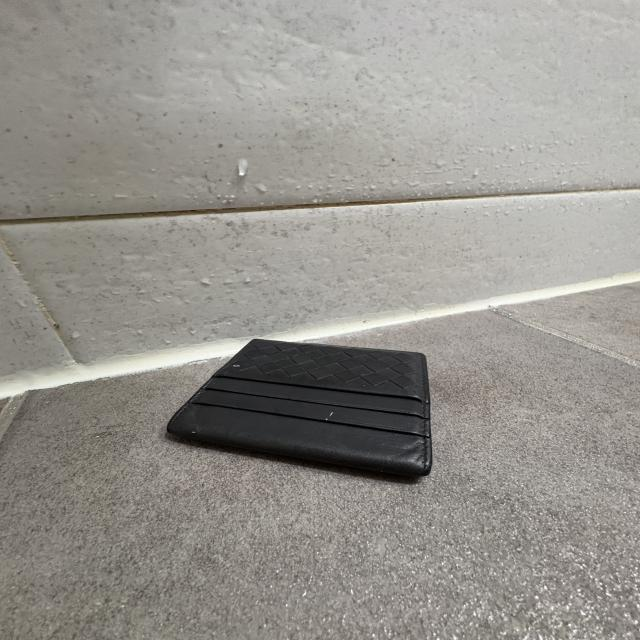wallet: (165, 336, 436, 484)
